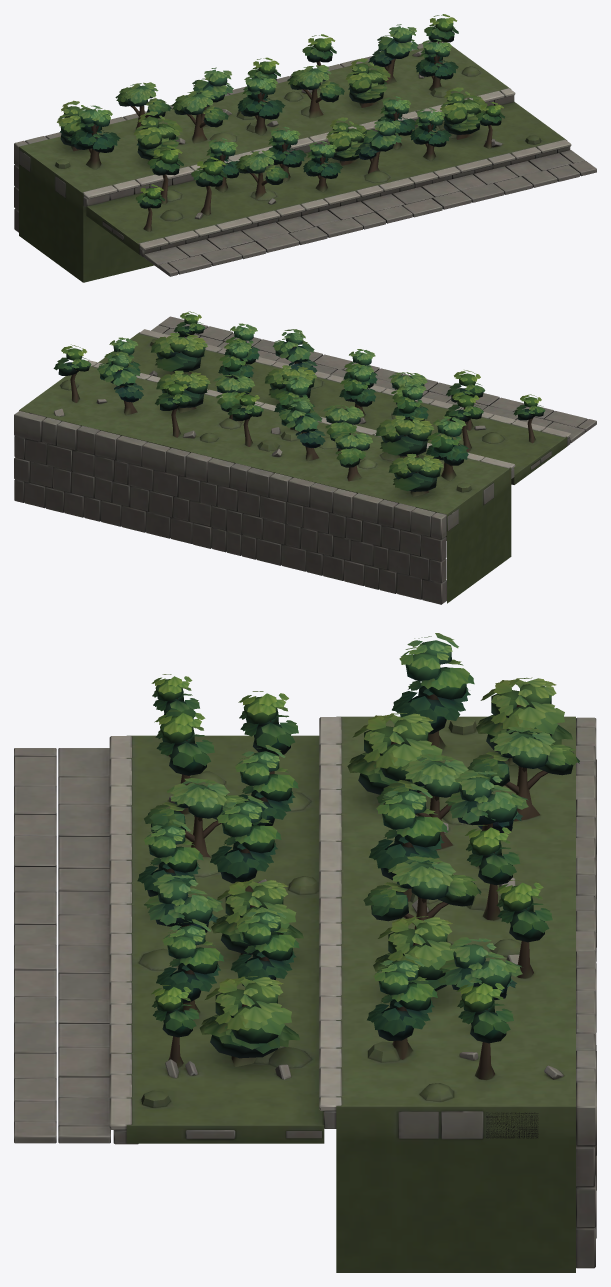
Rendered from skirt_rift_low.glb.
3 renders of one model, top to bottom at view 1: azimuth 30°, elevation 25°; view 2: azimuth 150°, elevation 25°; view 3: azimuth 270°, elevation 25°, orthographic. The views are drawn at different scales.
Parts seen in each view (by area): view 1: skirt_rift_low_body, skirt_rift_low_trees; view 2: skirt_rift_low_body, skirt_rift_low_trees; view 3: skirt_rift_low_body, skirt_rift_low_trees.
Part boxes in pixels (x1=…): skirt_rift_low_body: x1=14, y1=41, x2=596, y2=282; skirt_rift_low_trees: x1=57, y1=14, x2=504, y2=231; skirt_rift_low_body: x1=14, y1=316, x2=596, y2=604; skirt_rift_low_trees: x1=53, y1=311, x2=545, y2=496; skirt_rift_low_body: x1=14, y1=716, x2=596, y2=1272; skirt_rift_low_trees: x1=137, y1=633, x2=579, y2=1079.
Bounding box in the file's own units: 22.04 × 7.24 × 13.9.
Materials: 2 (1 with a texture image).
